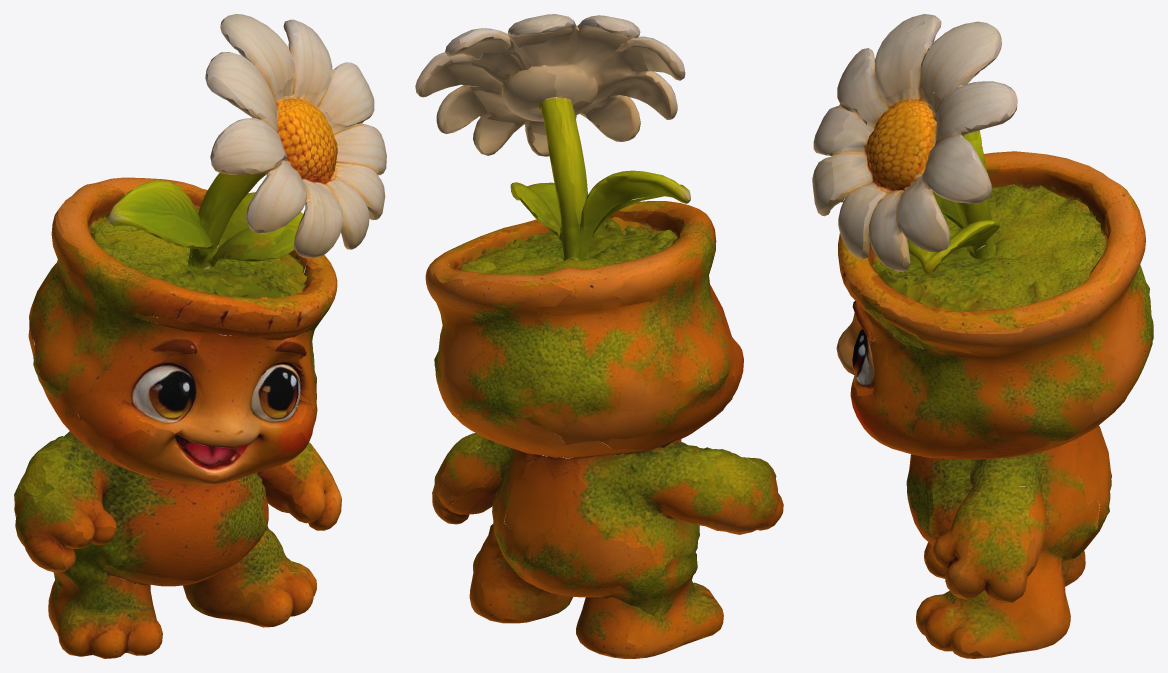
File: potgolem.glb
3 views of the same model, side by side, from view 1: azimuth 30°, elevation 25°; view 2: azimuth 150°, elevation 25°; view 3: azimuth 270°, elevation 25° (orthographic). The views are drawn at different scales.
Parts seen in each view (by area): view 1: textured_mesh.obj; view 2: textured_mesh.obj; view 3: textured_mesh.obj.
Part boxes in pixels (left/top/right/bottom): textured_mesh.obj: left=14, top=14, right=386, bottom=658; textured_mesh.obj: left=415, top=14, right=783, bottom=658; textured_mesh.obj: left=812, top=14, right=1153, bottom=658.
Bounding box in the file's own units: 0.6257 × 1 × 0.5128.
Materials: 1 (1 with a texture image).
